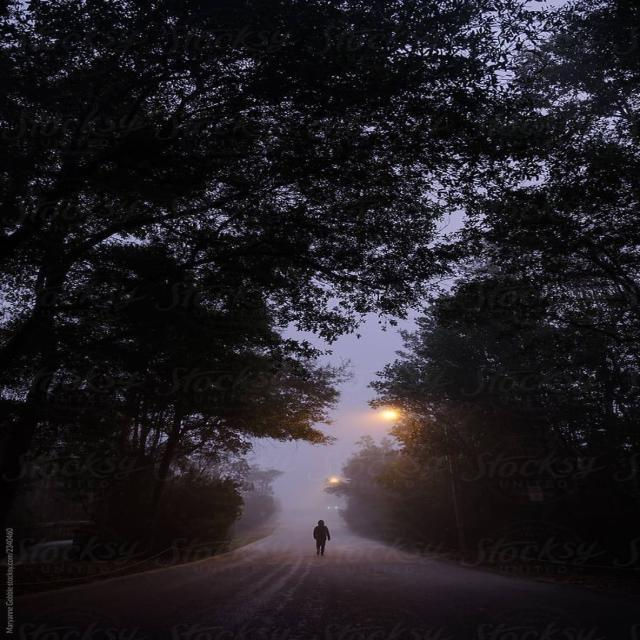on: (360, 375, 436, 458)
